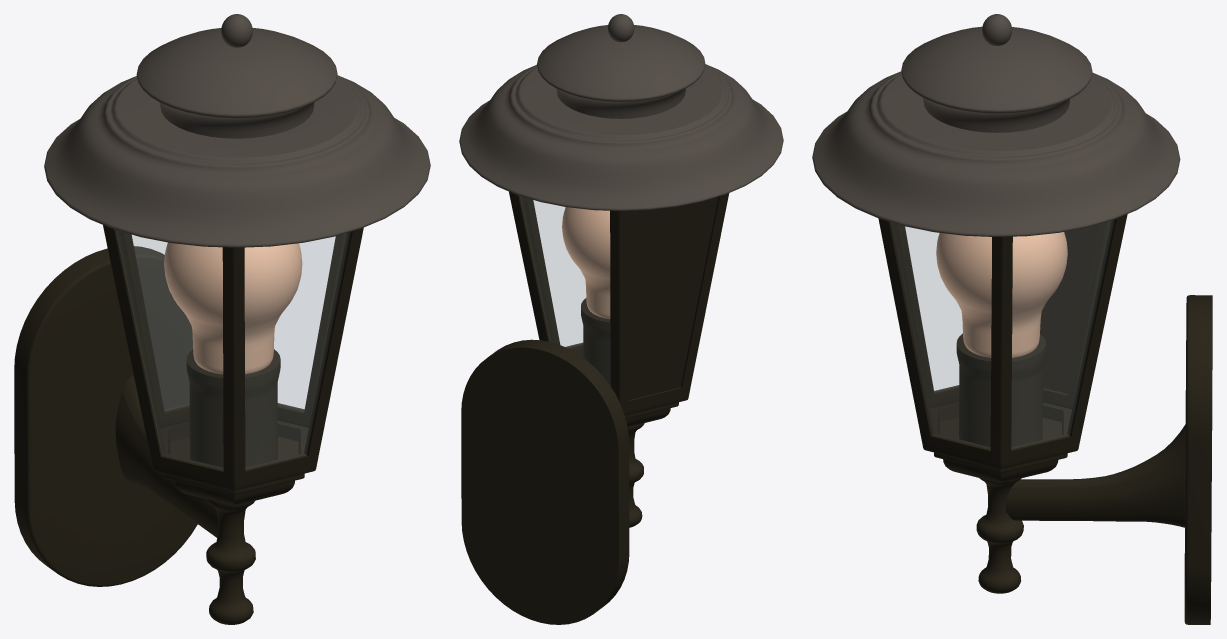
File: porch light final.fbx
3 views of the same model, side by side, from view 1: azimuth 30°, elevation 25°; view 2: azimuth 150°, elevation 25°; view 3: azimuth 270°, elevation 25° (orthographic). The views are drawn at different scales.
Visible parts, largest first — view 1: body; view 2: body; view 3: body.
Boxes of the visible parts, x1,y1,x2,y2 form: body: (14,14,430,624); body: (459,14,783,624); body: (812,14,1212,624).
Size of the model in its own units: 21787 by 39684 by 23702.
